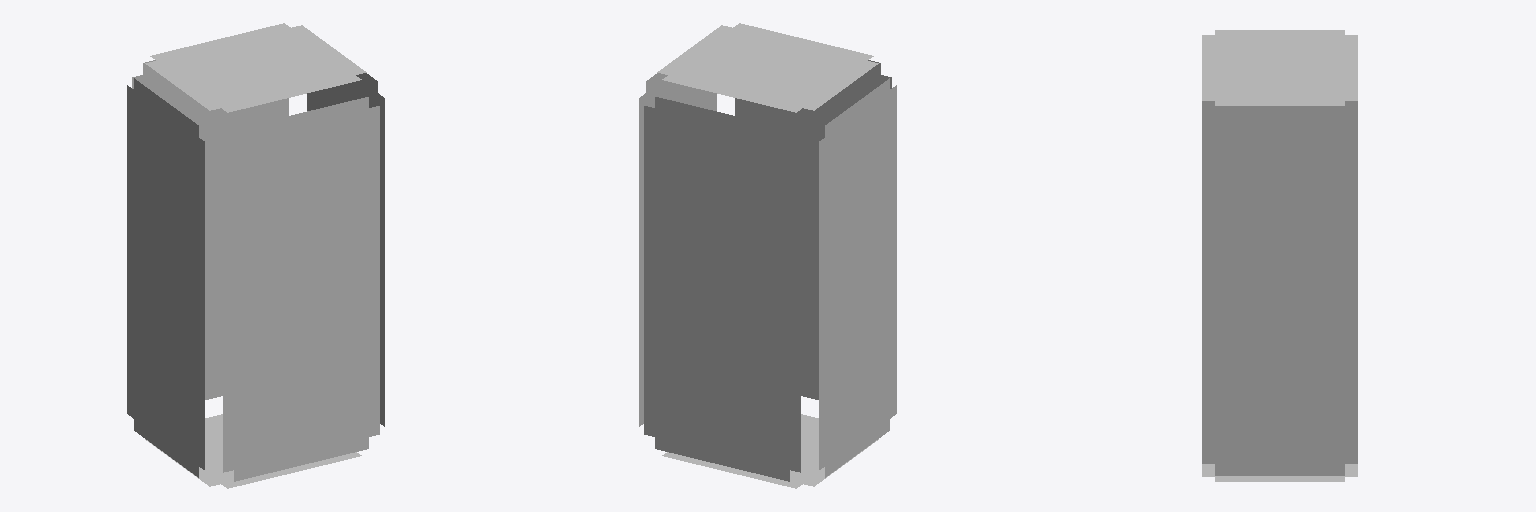
File: reinforced_locker_large.obj
The picture shows the model from 3 angles: view 1: azimuth 30°, elevation 25°; view 2: azimuth 150°, elevation 25°; view 3: azimuth 270°, elevation 25°; orthographic projection.
Parts seen in each view (by area): view 1: reinforced_locker_large; view 2: reinforced_locker_large; view 3: reinforced_locker_large.
Boxes of the visible parts, x1,y1,x2,y2 form: reinforced_locker_large: [127, 23, 384, 488]; reinforced_locker_large: [639, 23, 896, 488]; reinforced_locker_large: [1202, 30, 1357, 481].
Bounding box in the file's own units: 1 × 2 × 0.875.